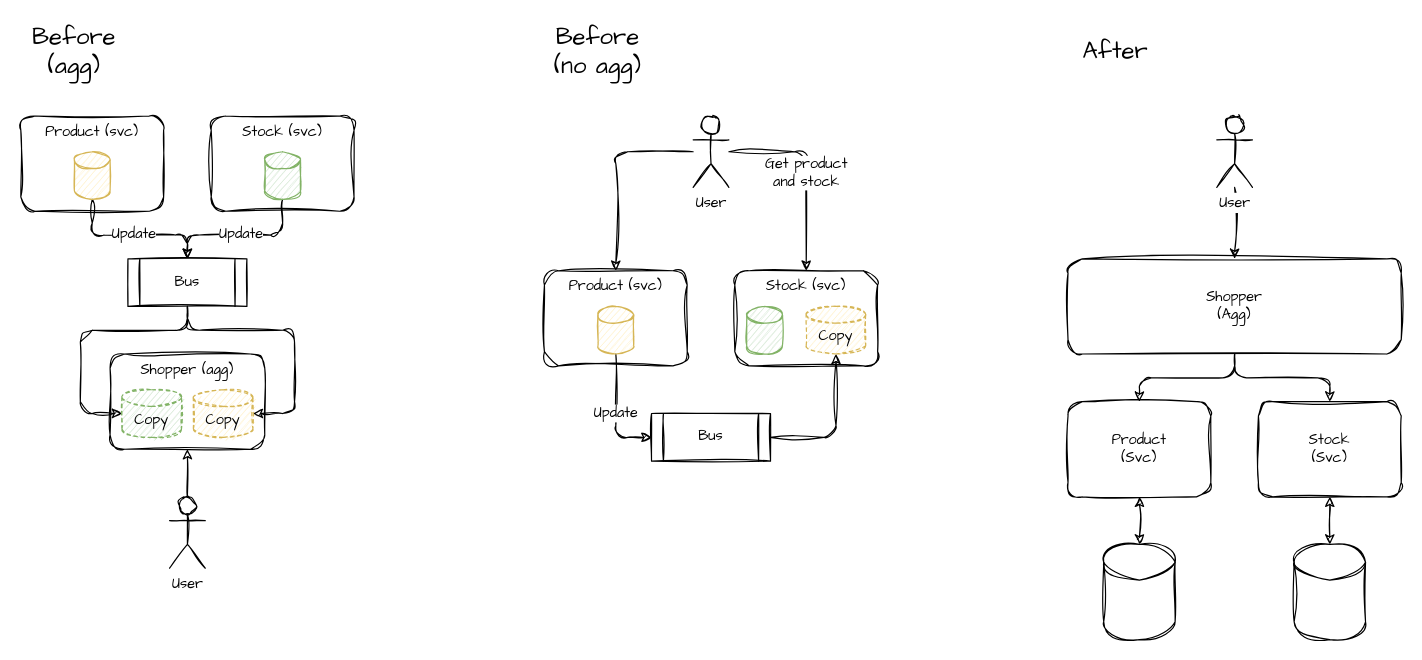
Image size: 1422x660. Some labels were removed from this diagram. Each missing label, with the centre of its shape:
"Product" goes at [1139,591].
"Stock" goes at [1329,591].
